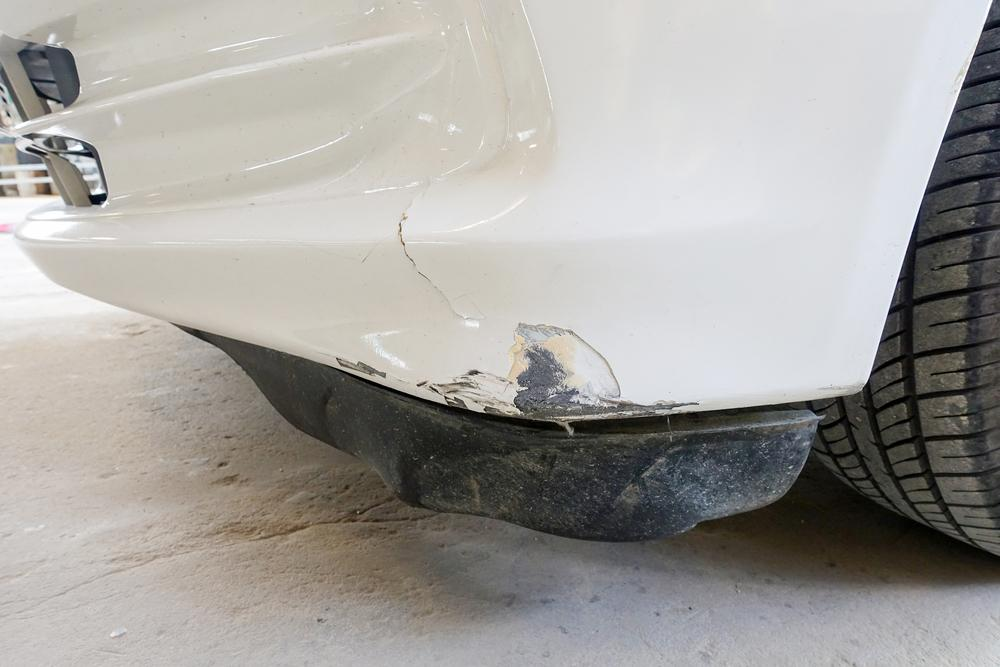crack: (396, 182, 484, 324)
scratch: (331, 314, 704, 421)
